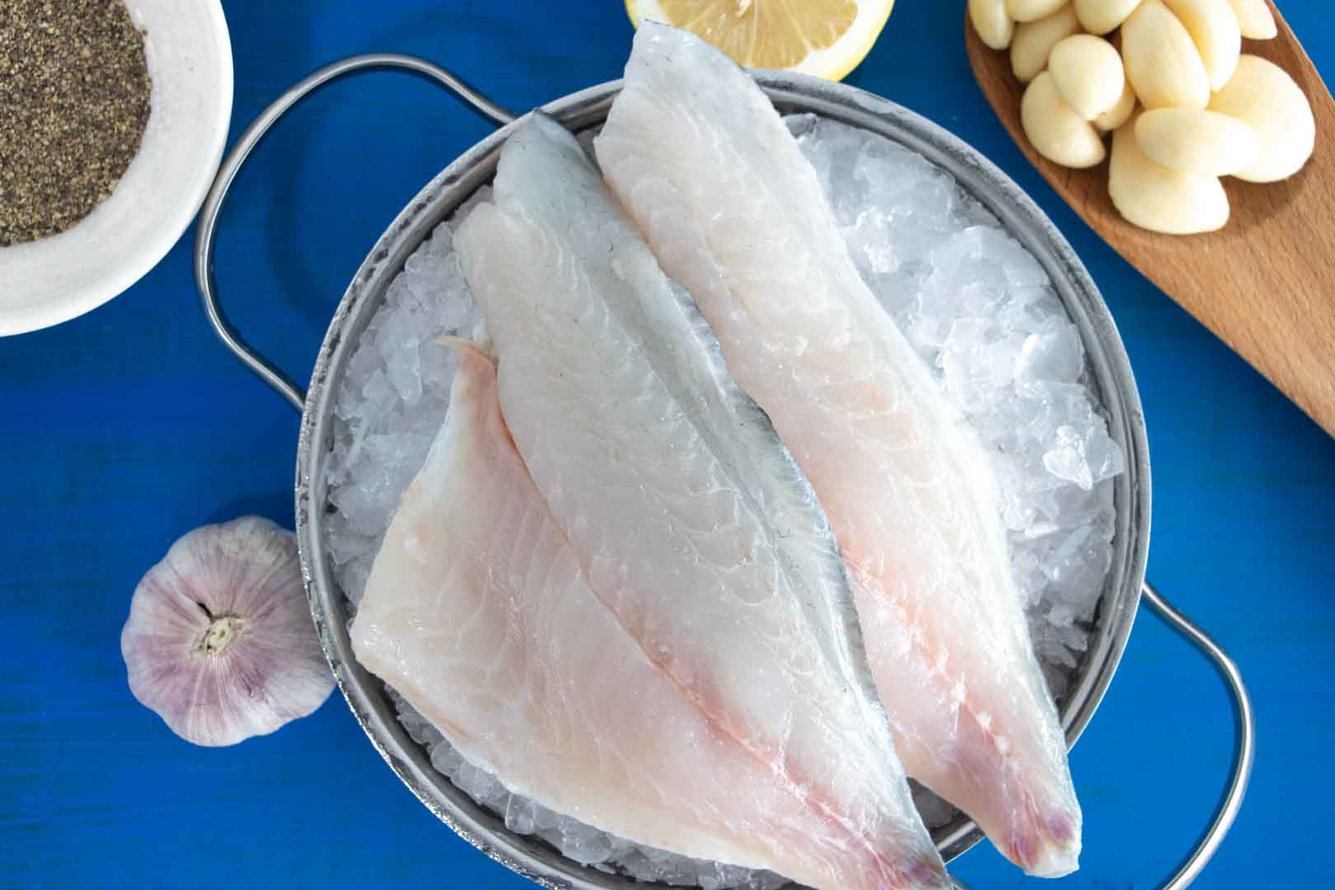bream-fish: (348, 84, 959, 890)
